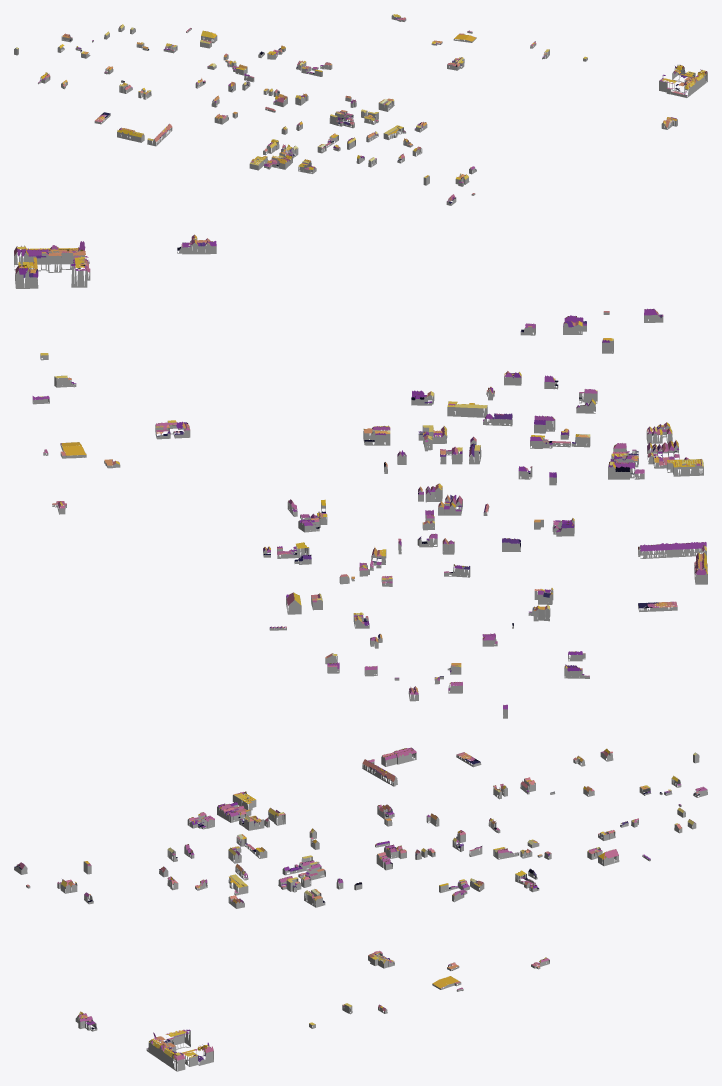
File: smoke.glb
The picture shows the model from 3 angles, top to bottom: view 1: azimuth 30°, elevation 25°; view 2: azimuth 150°, elevation 25°; view 3: azimuth 270°, elevation 25°; orthographic projection. The views are drawn at different scales.
Bounding box in the file's own units: 1024 × 29.46 × 942.
